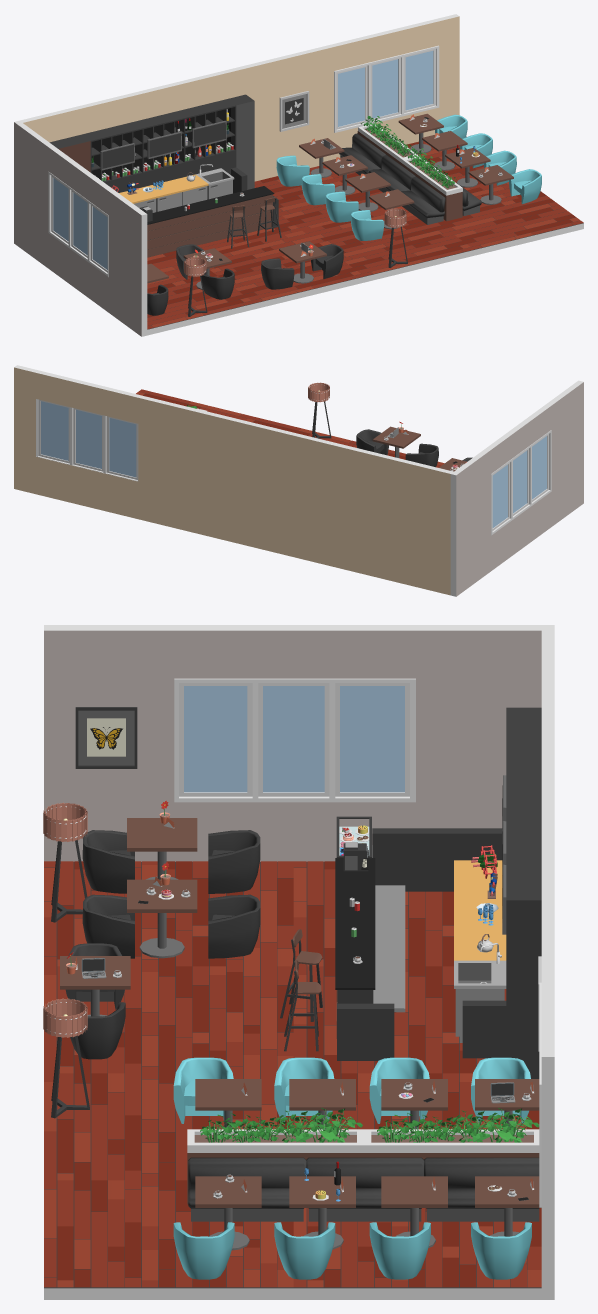
File: room_6.glb
3 views of the same model, one above another, from view 1: azimuth 30°, elevation 25°; view 2: azimuth 150°, elevation 25°; view 3: azimuth 270°, elevation 25° (orthographic). The views are drawn at different scales.
Parts seen in each view (by area): view 1: Walls_177.008, tv_wall_023.001, window_021.004, floor_001.019, kitchen_item_062.001, Walls_166.010, Walls_011.006, floor_001.017, Walls_166.011, floor_001.021, window_021.005, Walls_177.010 (+48 smaller); view 2: Walls_177.008, window_021.004, Walls_166.011, Walls_166.010, Walls_177.011, window_021.005, Walls_177.010, Walls_177.009, Walls_166.013, Walls_166.012, floor_001.017, floor_001.019 (+4 smaller); view 3: window_021.005, Walls_166.010, Walls_166.011, floor_001.021, floor_001.017, floor_001.019, Walls_011.006, floor_001.023, Walls_166.012, tv_wall_023.001, floor_001.022, floor_001.018 (+51 smaller).
Boxes of the visible parts, x1,y1,x2,y2 form: Walls_177.008: (20,44,334,181); tv_wall_023.001: (49,94,254,192); window_021.004: (334,45,439,132); floor_001.019: (302,206,473,276); kitchen_item_062.001: (147,186,274,257); Walls_166.010: (108,189,147,336); Walls_011.006: (147,142,583,335); floor_001.017: (438,182,583,249); Walls_166.011: (14,120,53,268); floor_001.021: (209,230,363,302); window_021.005: (48,171,108,276); Walls_177.010: (332,19,437,70); Walls_177.008: (138,395,453,595); window_021.004: (36,399,138,481); Walls_166.011: (450,448,491,596); Walls_166.010: (545,380,583,527); Walls_177.011: (36,456,138,518); window_021.005: (491,430,551,535); Walls_177.010: (36,370,141,423); Walls_177.009: (14,365,38,494); Walls_166.013: (491,493,550,570); Walls_166.012: (486,405,550,473); floor_001.017: (136,389,250,420); floor_001.019: (245,416,356,447); window_021.005: (174,678,415,802); Walls_166.010: (44,625,177,861); Walls_166.011: (414,625,554,828); floor_001.021: (44,966,293,1073); floor_001.017: (44,1180,293,1287); floor_001.019: (44,1073,293,1180); Walls_011.006: (44,862,541,1299); floor_001.023: (44,861,293,966); Walls_166.012: (178,625,413,678); tv_wall_023.001: (506,707,541,1078); floor_001.022: (293,966,506,1073); floor_001.018: (293,1208,541,1287).
Size of the model in its own units: 16.01 by 4.2 by 8.01.
1 material, 1 textured.
